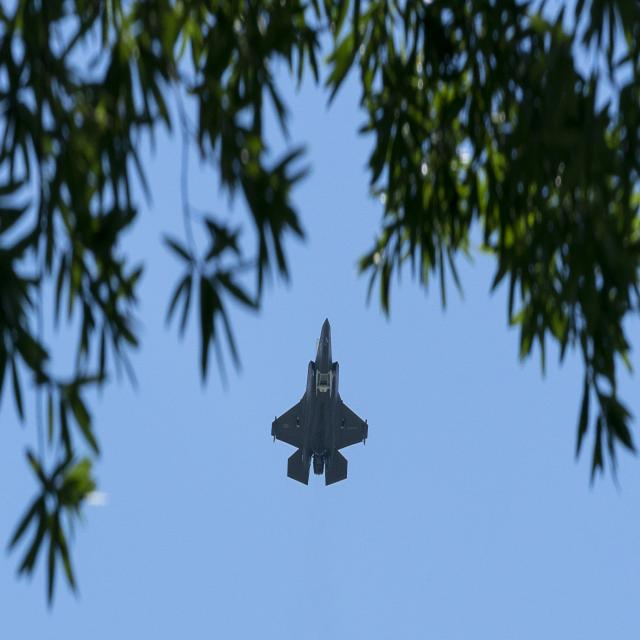MIL_Plane: (270, 317, 368, 486)
